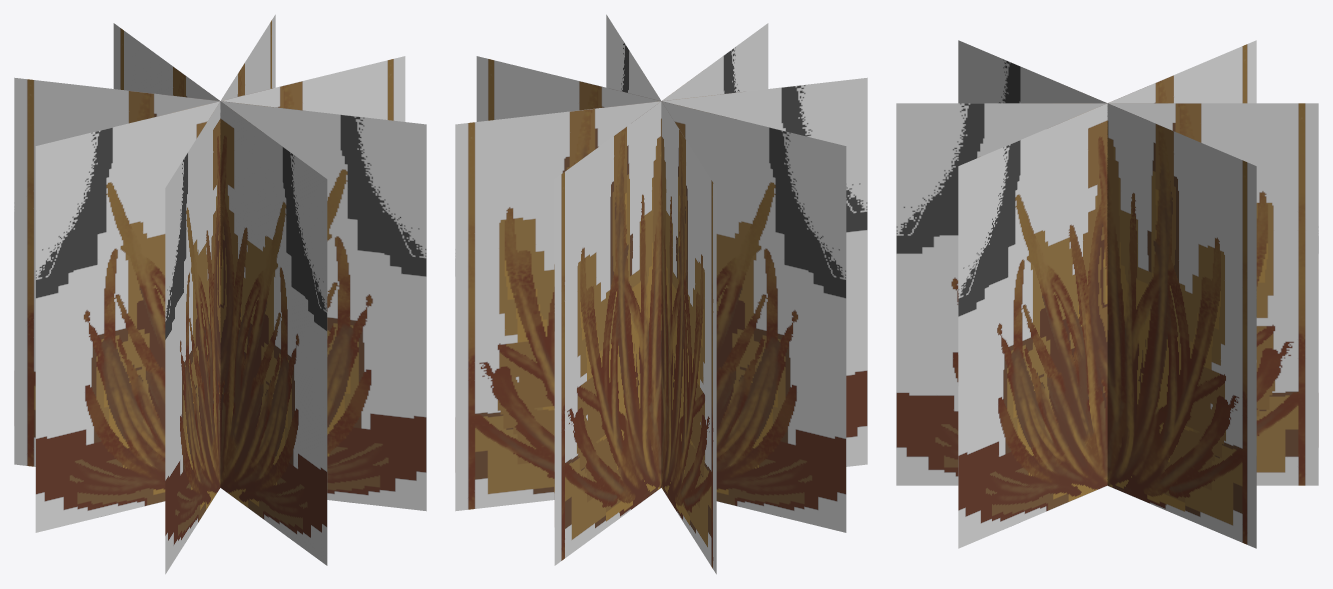
The model's file is Grass_Small.fbx.
3 renders of one model, left to right at view 1: azimuth 30°, elevation 25°; view 2: azimuth 150°, elevation 25°; view 3: azimuth 270°, elevation 25°, orthographic.
Parts seen in each view (by area): view 1: Grass_Short; view 2: Grass_Short; view 3: Grass_Short.
Boxes of the visible parts, left/top/right/bottom form: Grass_Short: left=14, top=14, right=426, bottom=574; Grass_Short: left=455, top=14, right=867, bottom=574; Grass_Short: left=896, top=40, right=1318, bottom=548.
Size of the model in its own units: 50 by 50 by 50.
